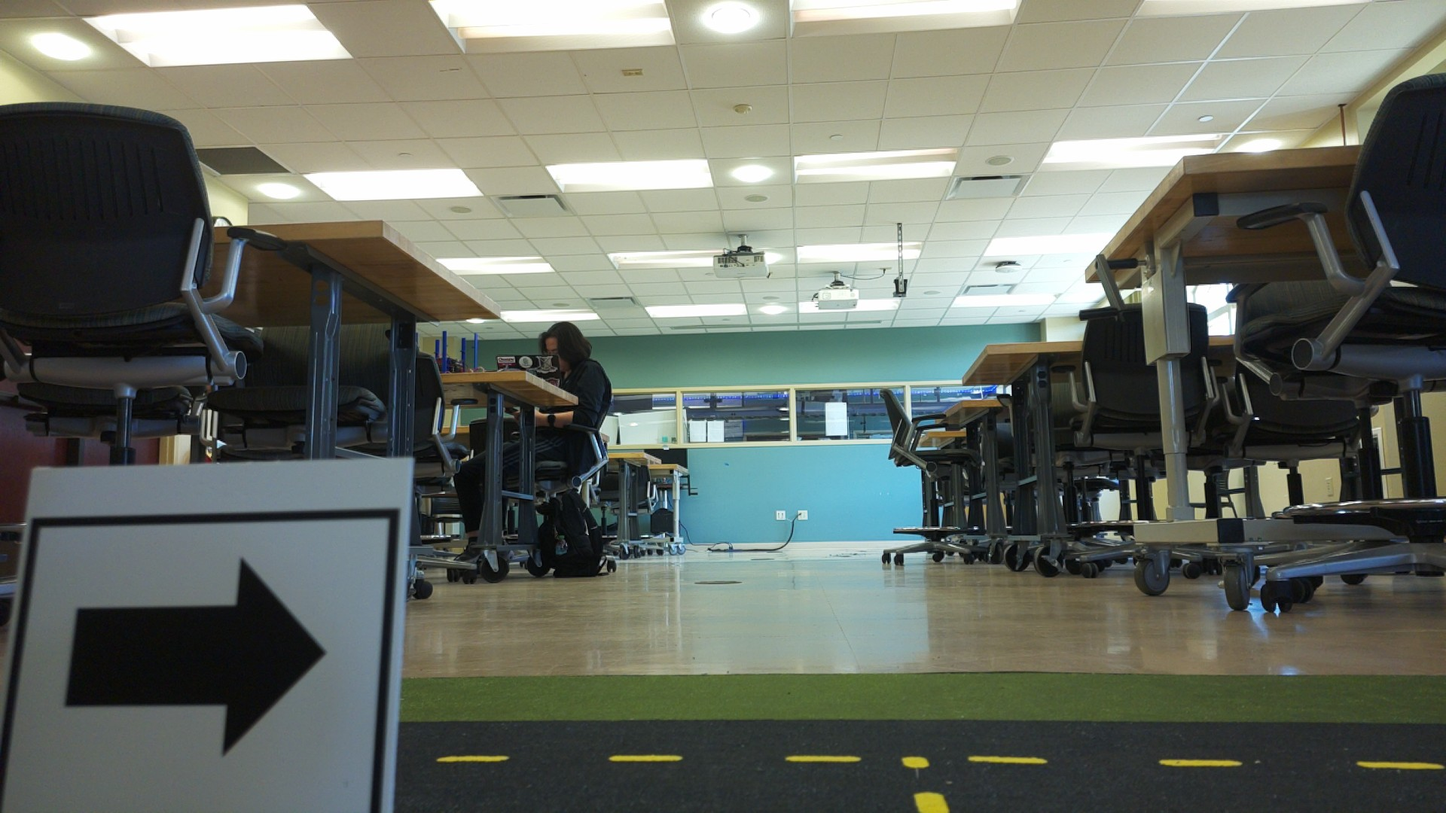turnright: (29, 518, 388, 813)
yellowline: (438, 748, 1446, 774), (893, 752, 955, 813)
